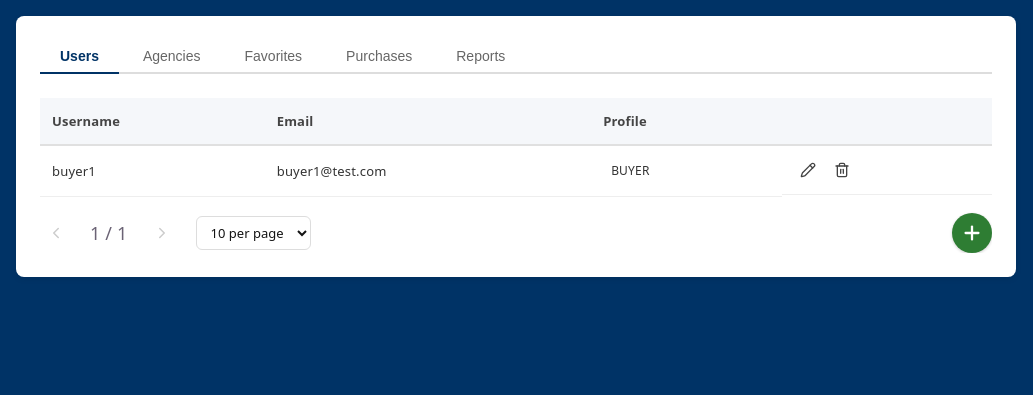
AdminPage › shows the reports section with top buyers
Click the button with test id "tab-reports".
click(481, 57)  # box [436, 40, 525, 74]
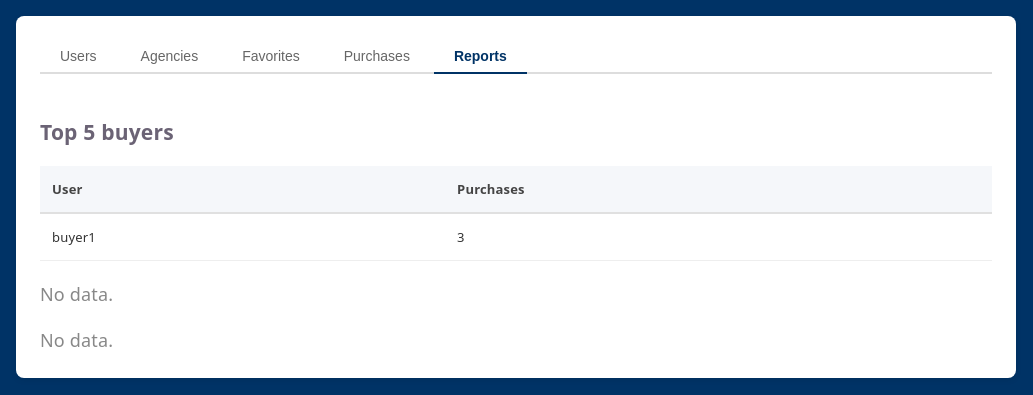
Now the element with test id "reports-section" is shown, box [40, 119, 992, 354]
Now the row with test id "top-buyer-row" shows "buyer1", box [52, 228, 96, 246]
